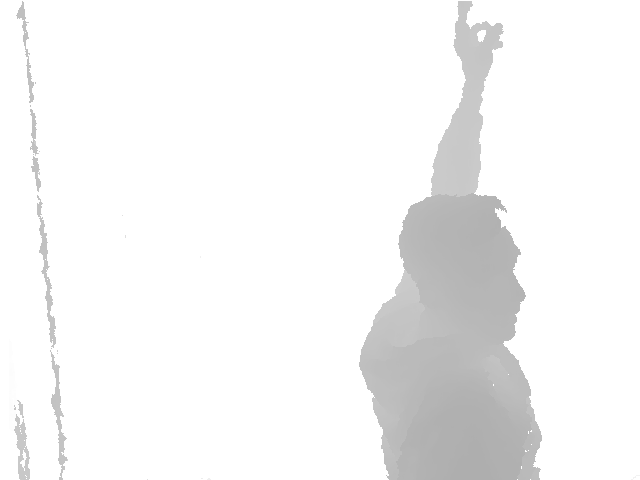hand: (452, 1, 504, 81)
head: (397, 194, 527, 346)
person: (358, 1, 544, 480)
